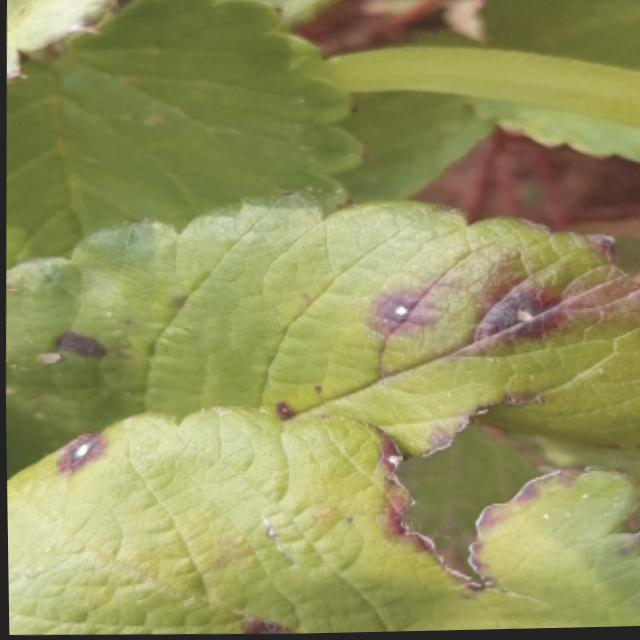Leaf Spot: (4, 199, 640, 480), (6, 404, 640, 634)
